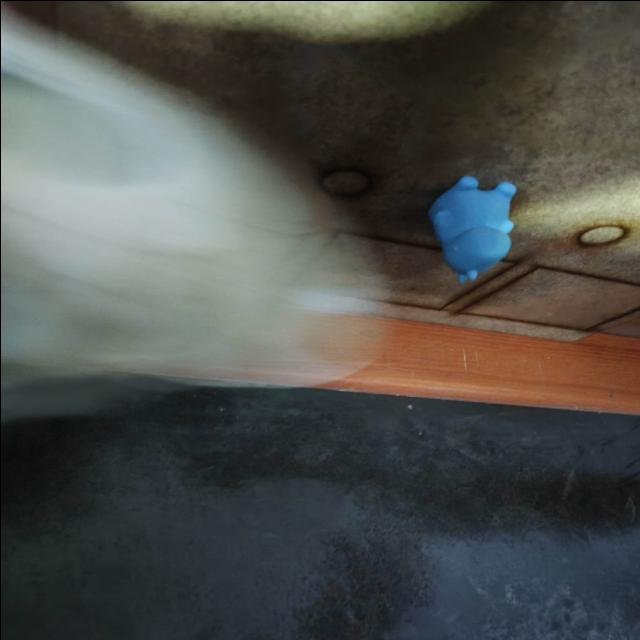DINO: (408, 166, 542, 282)
